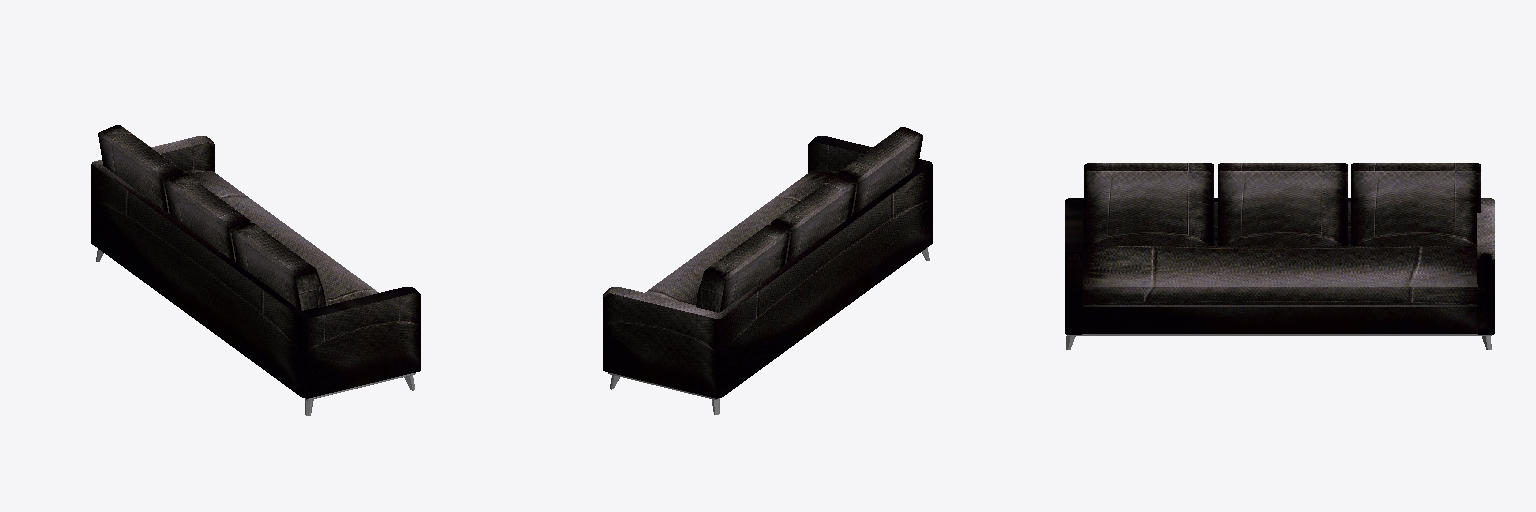
The picture shows the model from 3 angles: view 1: azimuth 30°, elevation 25°; view 2: azimuth 150°, elevation 25°; view 3: azimuth 270°, elevation 25°; orthographic projection.
Visible parts, largest first — view 1: Box1708; view 2: Box1708; view 3: Box1708, Box1710.
Part boxes in pixels (x1,y1,x2,y2): Box1708: (91,125,420,398); Box1708: (603,127,932,398); Box1708: (1065,163,1494,334); Box1710: (1066,334,1491,349).
Size of the model in its own units: 69.5 by 76.82 by 219.
Materials: 2 (1 with a texture image).